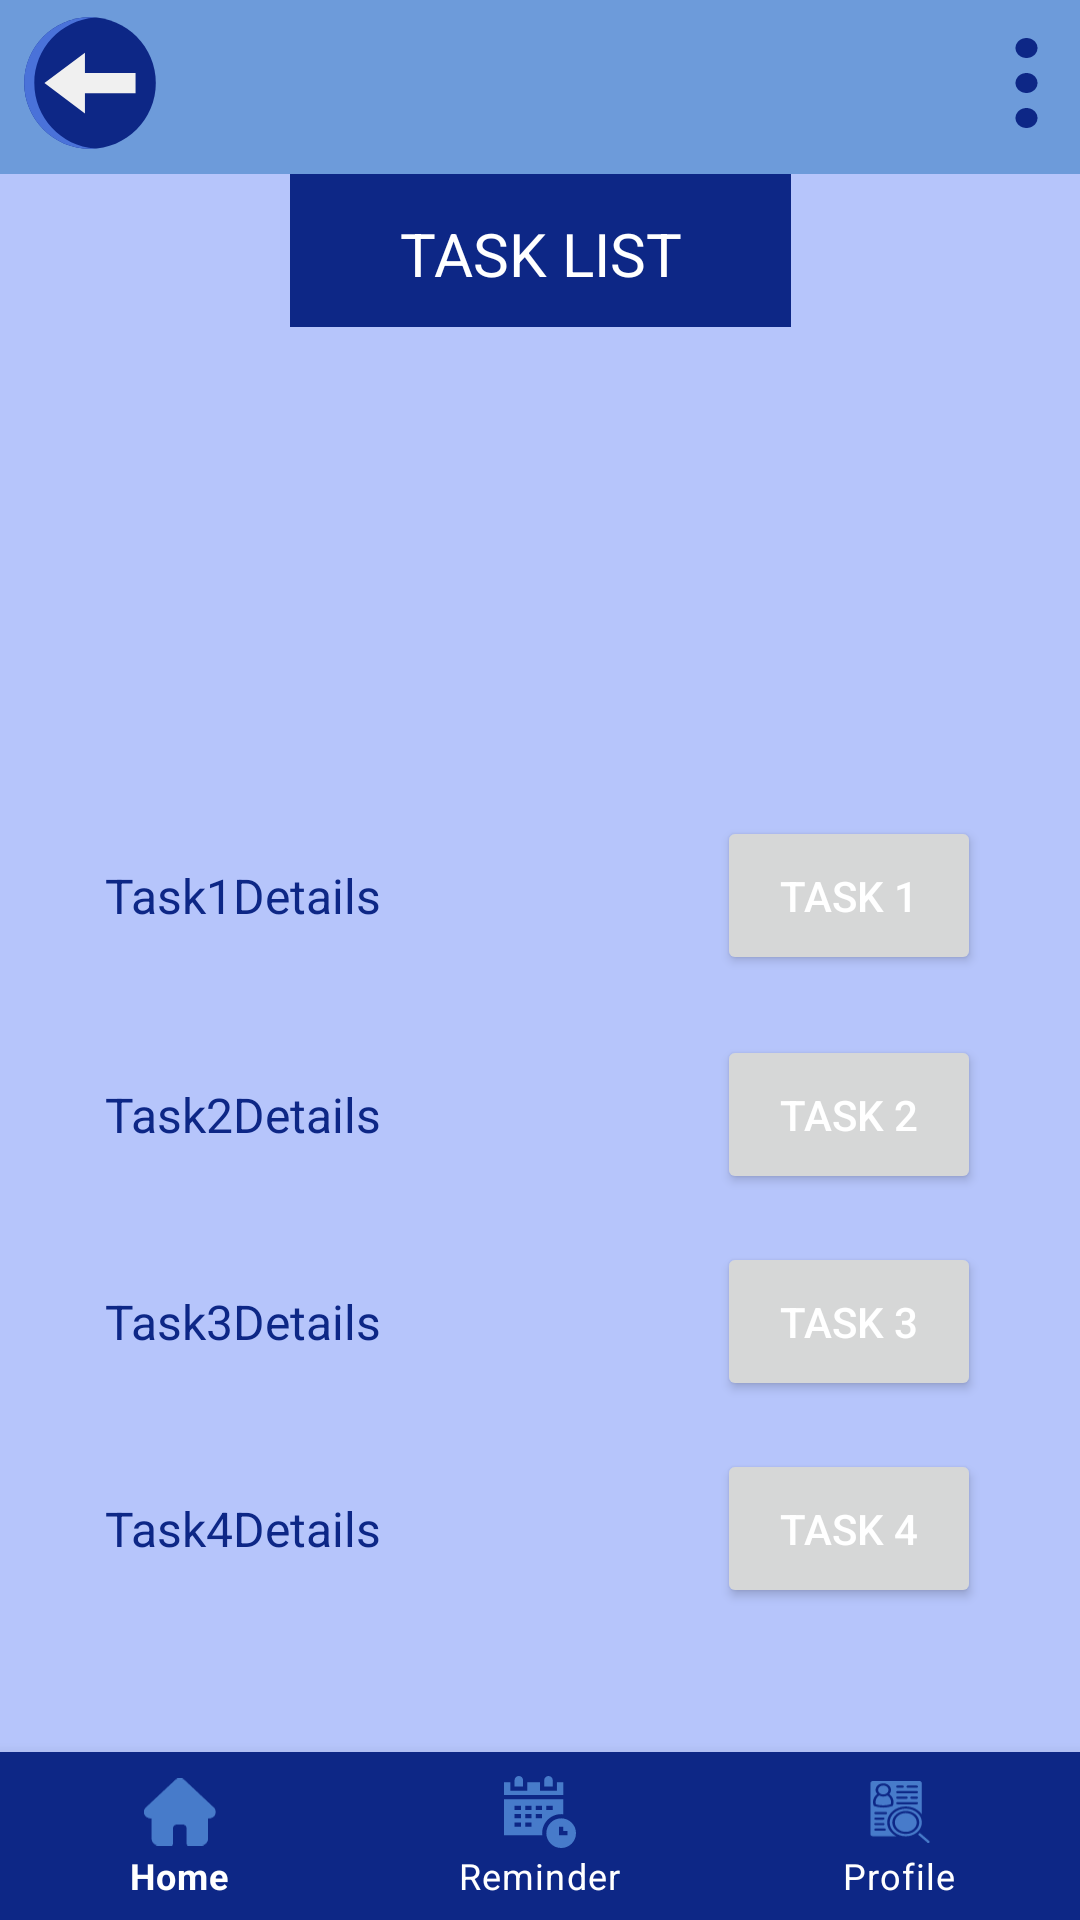

Icons on this 1080px x 1920px Android screen, each with its box as (x1, y1, x2, y2):
back: (24, 17, 156, 149)
more: (1015, 38, 1038, 128)
